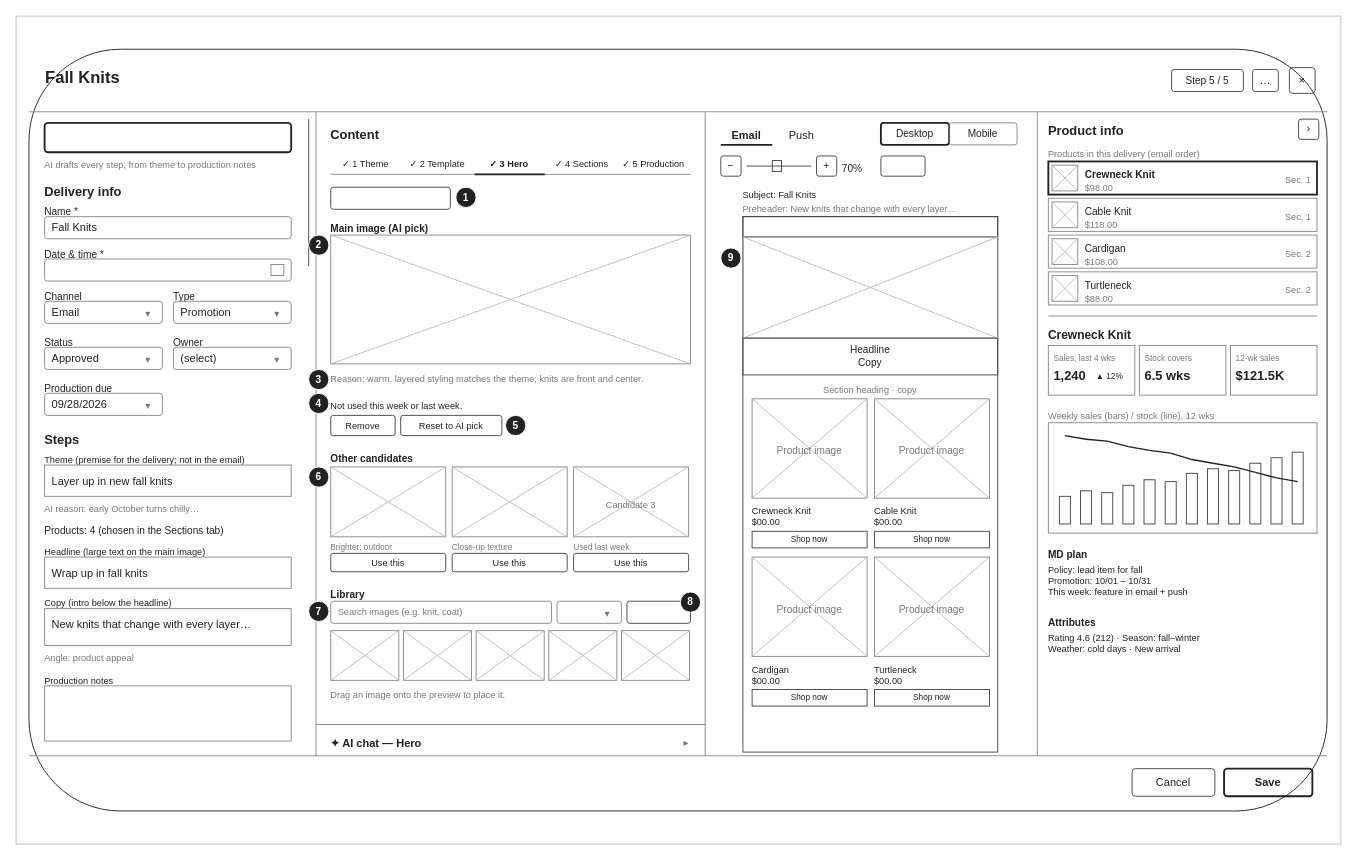
Image size: 1357x860. Some labels were removed from this diagram. Here are the shapes that lost their labels. From the top down, the box of each, then its label:
(43, 121, 292, 153): ✦ Draft all with AI
(880, 155, 925, 176): Fit
(330, 186, 450, 209): ✦ Suggest with AI
(742, 216, 998, 237): SHOP
(44, 258, 291, 281): 10/02/2026 10:00 AM
(742, 236, 998, 338): Main image
(330, 234, 690, 364): Main image — knit layers, warm tone
(330, 466, 446, 537): Candidate 1
(451, 466, 567, 537): Candidate 2
(556, 600, 621, 623): All
(626, 600, 690, 623): + Upload
(44, 685, 291, 741): (notes for the production team)
